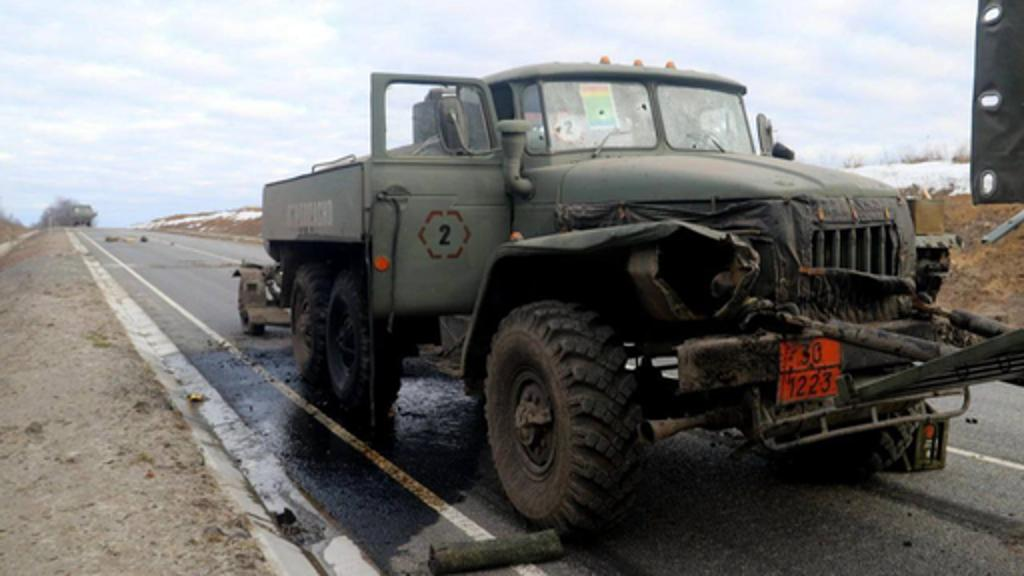TRUCK: (238, 44, 970, 544), (66, 202, 98, 226)
